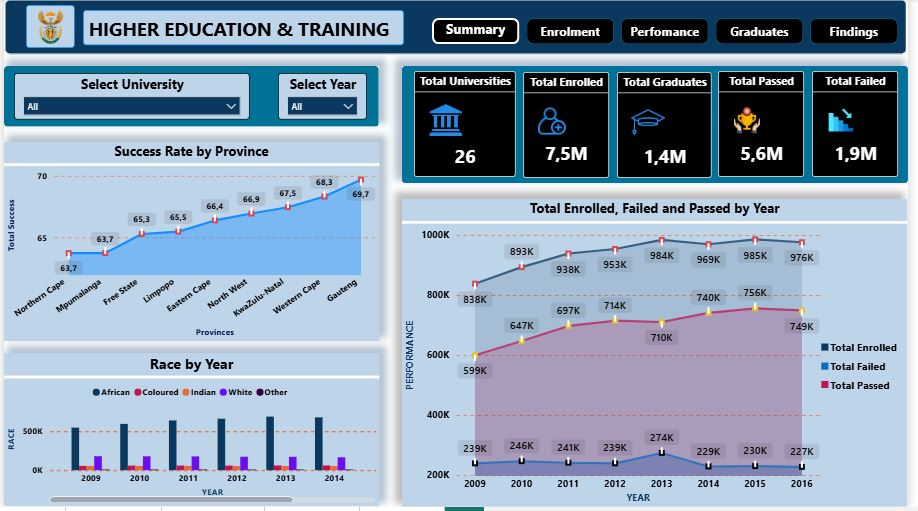

The dashboard page shown, as its layout file describes it:
{"tool":"powerbi","page":{"name":"Summary","canvas":[1280,720],"ordinal":0},"visuals":[{"type":"shape","box":[563.4,95.1,717.1,165.8],"z":0},{"type":"cardVisual","title":"Total Graduates","fields":{"Data":["Calculations.Total Graduates"]},"box":[868.3,103.7,134.2,150],"z":1000},{"type":"cardVisual","title":"Total Enrolled","fields":{"Data":["Calculations.Total Enrolled"]},"box":[735.4,103.7,122,150],"z":2000},{"type":"cardVisual","title":"Total Universities","fields":{"Data":["CountNonNull(Institutions.University Name )"]},"box":[581.7,102.4,143.9,150],"z":3000},{"type":"cardVisual","title":"Total Passed","fields":{"Data":["Calculations.Total Passed"]},"box":[1011.9,102.5,122,150],"z":4000},{"type":"cardVisual","title":"Total Failed","fields":{"Data":["Calculations.Total Failed"]},"box":[1145.6,102.4,122,150],"z":5000},{"type":"lineChart","title":"Success Rate by Province","fields":{"Category":["Provinces.Provinces"],"Y":["Calculations.Total Success"]},"box":[0,202.4,531.7,281.7],"z":6000},{"type":"clusteredColumnChart","title":"Race by Year","fields":{"Category":["Years.Years.Variation.Date Hierarchy.Year"],"Y":["Sum(Race.African)","Sum(Race.Coloured)","Sum(Race.Indian)","Sum(Race.White)","Sum(Race.Unknown)"]},"box":[0,502.4,531.7,217.1],"z":7000},{"type":"lineChart","title":"Total Enrolled, Failed and Passed by Year","fields":{"Y":["Calculations.Total Enrolled","Calculations.Total Failed","Calculations.Total Passed"],"Category":["Years.Years.Variation.Date Hierarchy.Year"]},"box":[563.8,283.8,716.2,436.2],"z":8000},{"type":"shape","box":[0,95.3,531.4,86],"z":9000},{"type":"slicer","title":"Select University","fields":{"Values":["Institutions.University Name "]},"box":[13.9,104.7,333.7,66.3],"z":10000},{"type":"slicer","title":"Select Year","fields":{"Values":["Years.Years.Variation.Date Hierarchy.Year"]},"box":[388.4,104.7,125.6,66.3],"z":11000},{"type":"shape","box":[0,0,1280.2,79.1],"z":12000},{"type":"textbox","box":[112.5,15,455,50],"z":13000},{"type":"image","box":[31.2,8.8,68.8,61.2],"z":14000},{"type":"pageNavigator","box":[607.3,26.8,663.4,37.8],"z":15000}]}

Visuals, with their boxes in screenshot pixels (x1, y1, x2, y2), scaled from the page's 1280x720 canvas onto the 918x511 screenshot:
shape: l=404, t=67, r=917, b=185
"Total Graduates" cardVisual: l=623, t=74, r=719, b=180
"Total Enrolled" cardVisual: l=527, t=74, r=615, b=180
"Total Universities" cardVisual: l=417, t=73, r=520, b=179
"Total Passed" cardVisual: l=726, t=73, r=813, b=179
"Total Failed" cardVisual: l=822, t=73, r=909, b=179
"Success Rate by Province" lineChart: l=0, t=144, r=381, b=344
"Race by Year" clusteredColumnChart: l=0, t=357, r=381, b=510
"Total Enrolled, Failed and Passed by Year" lineChart: l=404, t=201, r=917, b=510
shape: l=0, t=68, r=381, b=129
"Select University" slicer: l=10, t=74, r=249, b=121
"Select Year" slicer: l=279, t=74, r=369, b=121
shape: l=0, t=0, r=917, b=56
textbox: l=81, t=11, r=407, b=46
image: l=22, t=6, r=72, b=50
pageNavigator: l=436, t=19, r=911, b=46
